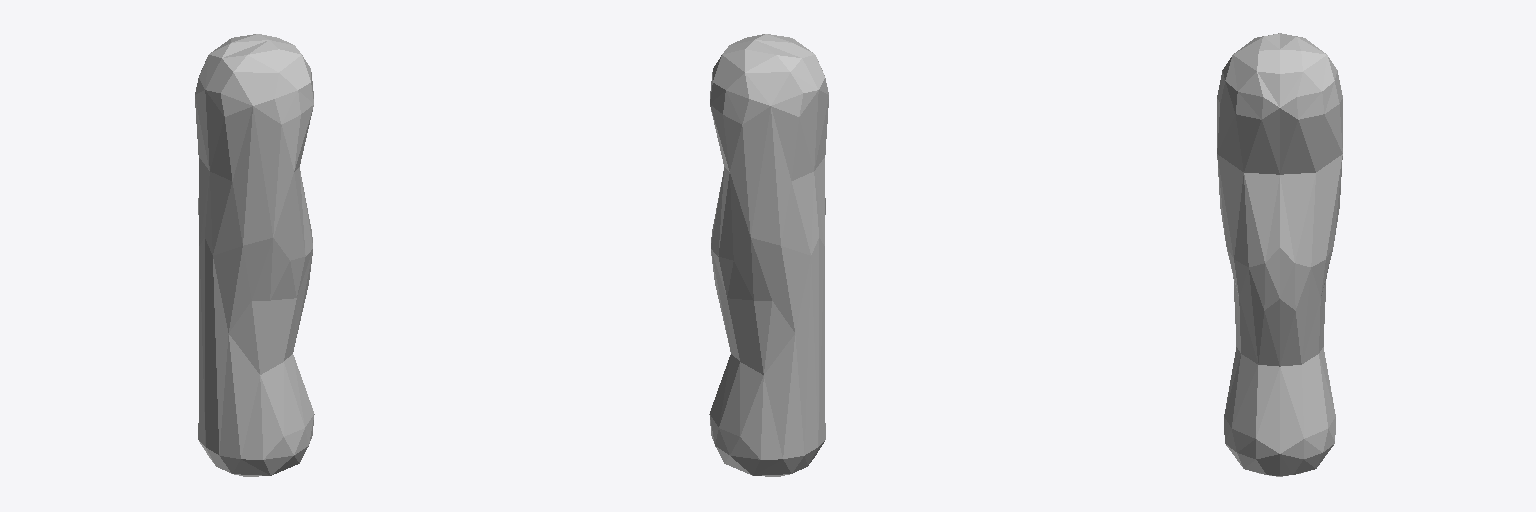
File: spider thigh.obj
3 views of the same model, side by side, from view 1: azimuth 30°, elevation 25°; view 2: azimuth 150°, elevation 25°; view 3: azimuth 270°, elevation 25° (orthographic).
Visible parts, largest first — view 1: Cylinder; view 2: Cylinder; view 3: Cylinder.
Part boxes in pixels (x1,y1,x2,y2): Cylinder: (195, 34, 314, 476); Cylinder: (709, 34, 828, 476); Cylinder: (1217, 33, 1342, 476).
Size of the model in its own units: 0.4287 by 1.7 by 0.4568.